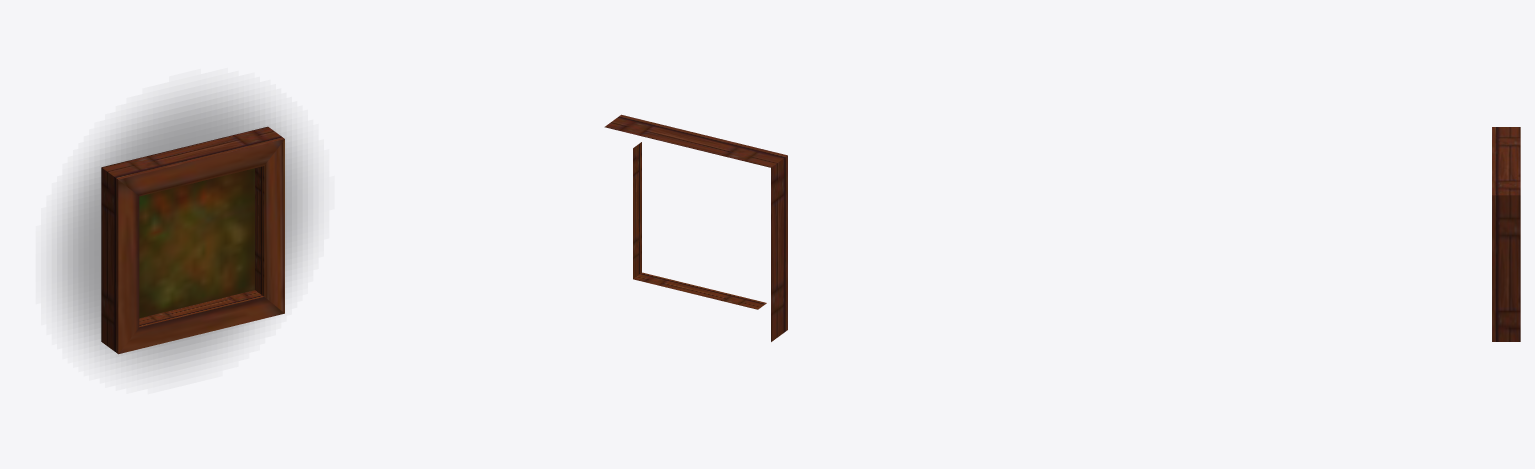
Rendered from prop_tree_DG_ul.glb.
3 views of the same model, side by side, from view 1: azimuth 30°, elevation 25°; view 2: azimuth 150°, elevation 25°; view 3: azimuth 270°, elevation 25° (orthographic). The views are drawn at different scales.
Visible parts, largest first — view 1: tree_planter_woodbox_ul, shadow_DG_tree_ul; view 2: tree_planter_woodbox_ul; view 3: tree_planter_woodbox_ul.
Boxes of the visible parts, bbox=[...] form: tree_planter_woodbox_ul: bbox=[101, 126, 284, 354]; shadow_DG_tree_ul: bbox=[57, 93, 307, 369]; tree_planter_woodbox_ul: bbox=[604, 114, 787, 341]; tree_planter_woodbox_ul: bbox=[1492, 127, 1520, 341].
Size of the model in its own units: 9.86 by 9.86 by 13.84.
Materials: 4 (4 with a texture image).
